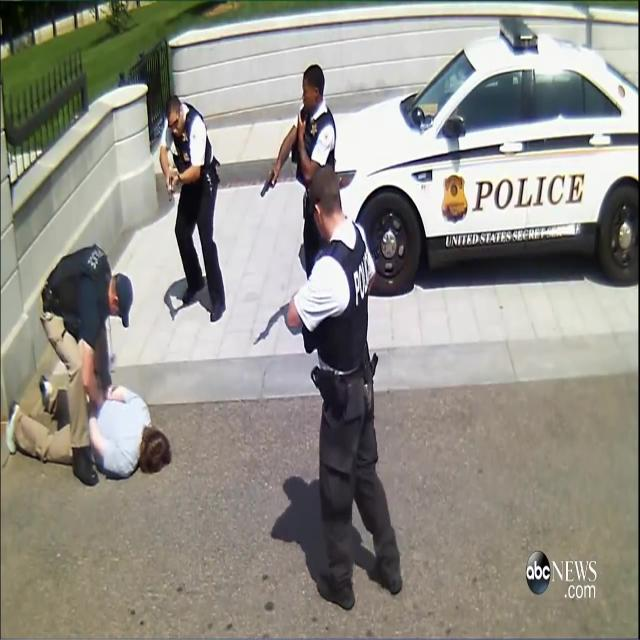Weapon: (146, 162, 201, 210), (260, 160, 286, 221)
